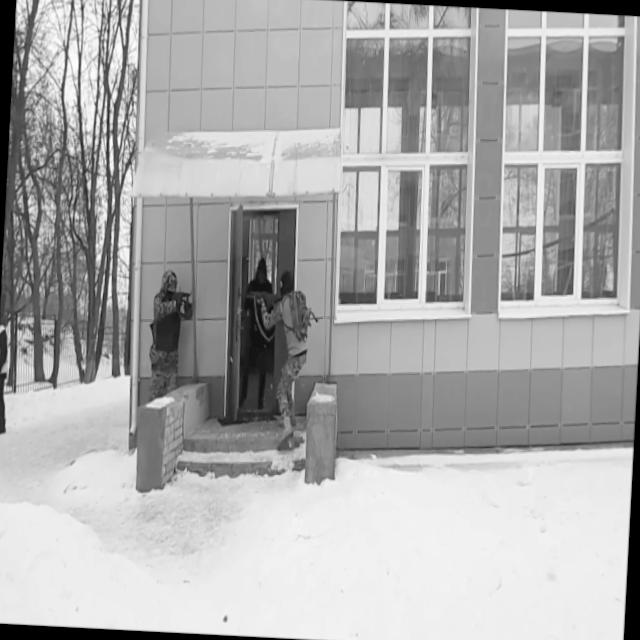gun: (238, 286, 284, 313), (162, 285, 192, 315)
person: (234, 255, 280, 412)
person with a gun: (232, 266, 312, 444), (144, 268, 194, 402)
